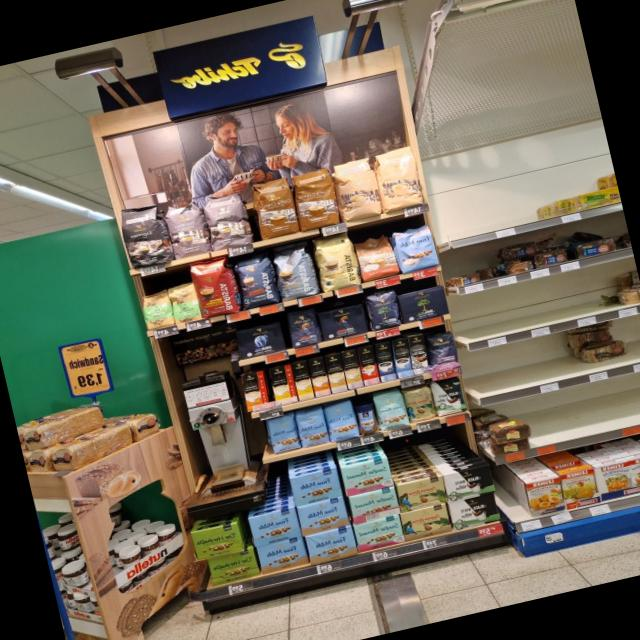AB Gemahlen: (233, 320, 287, 361)
Athiopien Bohne: (138, 288, 176, 332)
Athiopien Gemahlen: (167, 280, 201, 325)
BM Bohne: (362, 287, 403, 332)
BM Gemahlen: (395, 284, 450, 324)
BW Bohne: (428, 375, 468, 418)
BW Gemahlen: (441, 462, 498, 503), (446, 492, 503, 530)
Barista CB: (308, 229, 364, 293)
Barista CC: (268, 240, 322, 302)
Barista Espresso: (230, 252, 282, 311)
Barista Kolumbien: (188, 256, 242, 320)
C Fino Bohne: (421, 328, 462, 373)
CC Mild: (368, 142, 429, 216), (327, 154, 385, 224)
CC Vollmundig: (352, 232, 401, 283)
CC Vollmundig 36 Pads: (288, 166, 344, 232), (247, 175, 302, 242)
Colombia BB Bohne: (402, 382, 438, 423)
Colombia BB Gemahlen: (398, 502, 454, 542), (394, 474, 449, 514)
Espresso Kraftig: (116, 198, 175, 272)
Espresso M Art: (199, 189, 256, 253), (162, 198, 212, 260)
FM 36 Pads: (389, 221, 442, 275)
FM Bohne: (322, 397, 362, 443), (293, 404, 331, 450), (265, 412, 302, 456)
FM Gemahlen: (293, 494, 352, 538), (286, 464, 344, 508), (246, 504, 302, 548), (255, 533, 312, 576), (303, 524, 359, 566)
FM Instant: (352, 399, 382, 437)
Herzhatfe Mundig: (204, 542, 263, 588), (186, 520, 244, 562)
LG Bohne: (284, 306, 324, 349)
LG Gemahlen: (316, 302, 370, 342)
SM Bohne: (372, 386, 411, 432)
SM Gemahlen: (337, 454, 396, 496), (346, 485, 402, 525), (351, 514, 406, 554)
Simo CCMild: (267, 362, 300, 408)
Simo CCMild bigpack: (290, 358, 316, 402)
Simo CCVollmundig: (239, 368, 272, 413)
Simo CCVollmundig bigpack: (306, 355, 332, 397)
Simo Es Elegant: (356, 343, 381, 386)
Simo Kaffee BW: (404, 332, 431, 376)
Simo Kaffee Kraft: (373, 339, 397, 383)
Simo Kaffee Mild: (390, 336, 414, 379)
